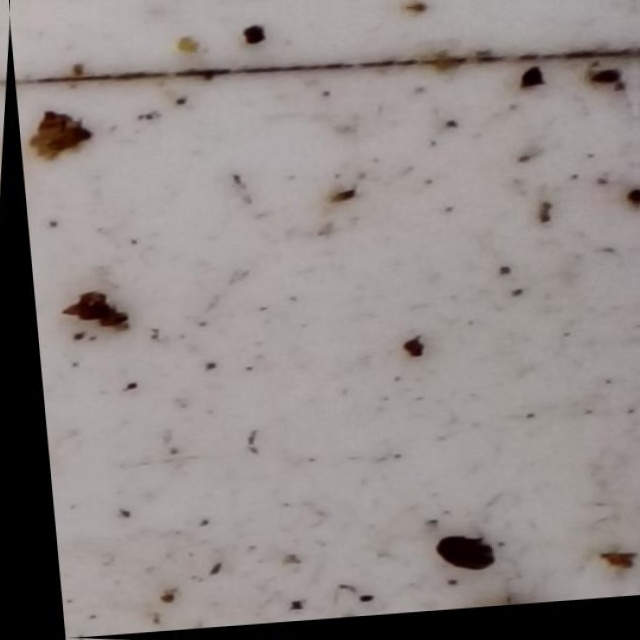varroa: (424, 535, 490, 581)
